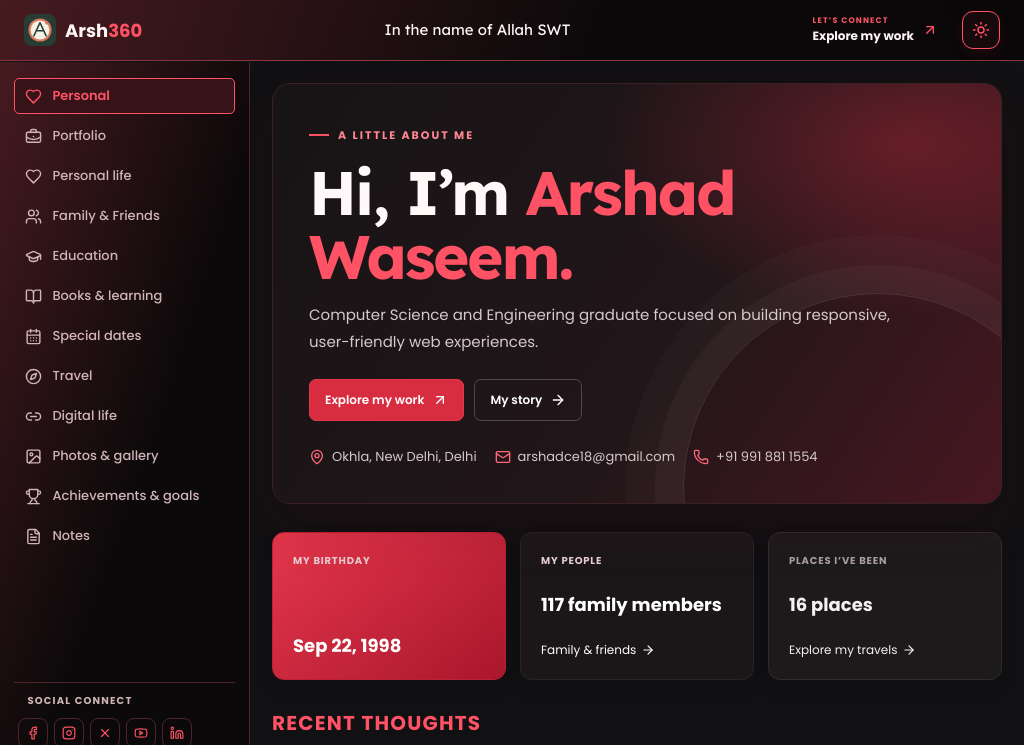
Scenario: travel entries use image-first two-column mobile card layout
Click the link "Travel": (59,376) [25,366,92,385]
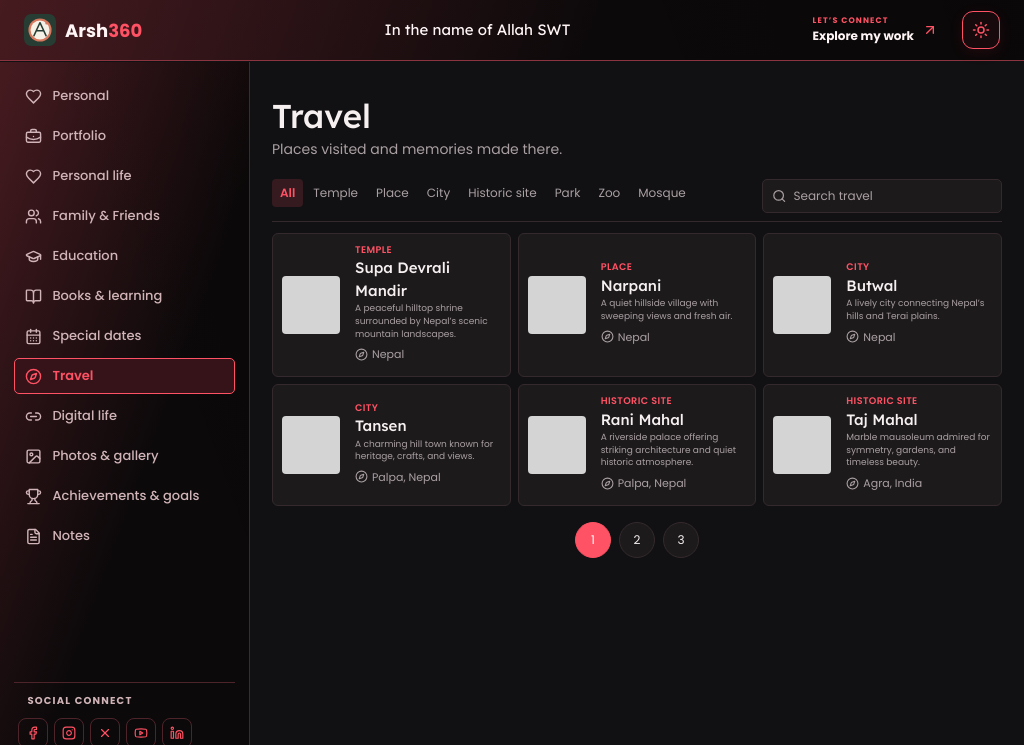
Check: the heading "Lotus Temple" is not shown
Check: the element with class "travel-list" is shown, box [272,233,1002,506]
Check: the button named "Travel page 3" is shown, box [663,522,699,558]
Click the button named "Travel page 2": (637,540) [619,522,655,558]
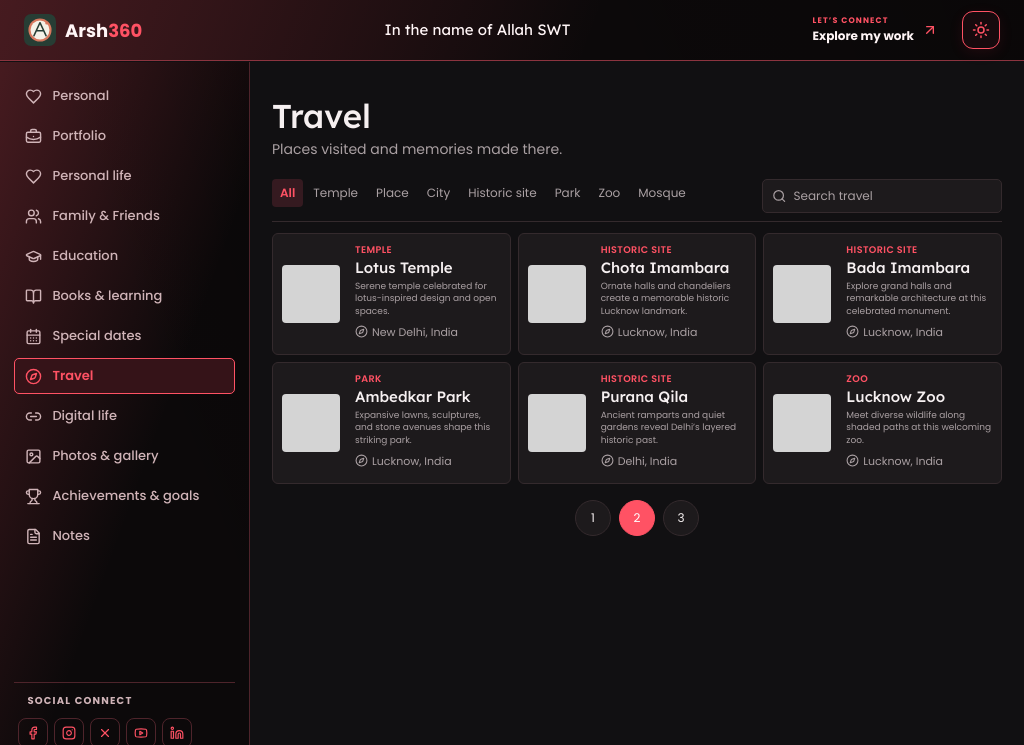
Check: the heading "Lotus Temple" is shown, box [355,258,453,277]
Click the button named "Travel page 3": (681,518) [663,500,699,536]
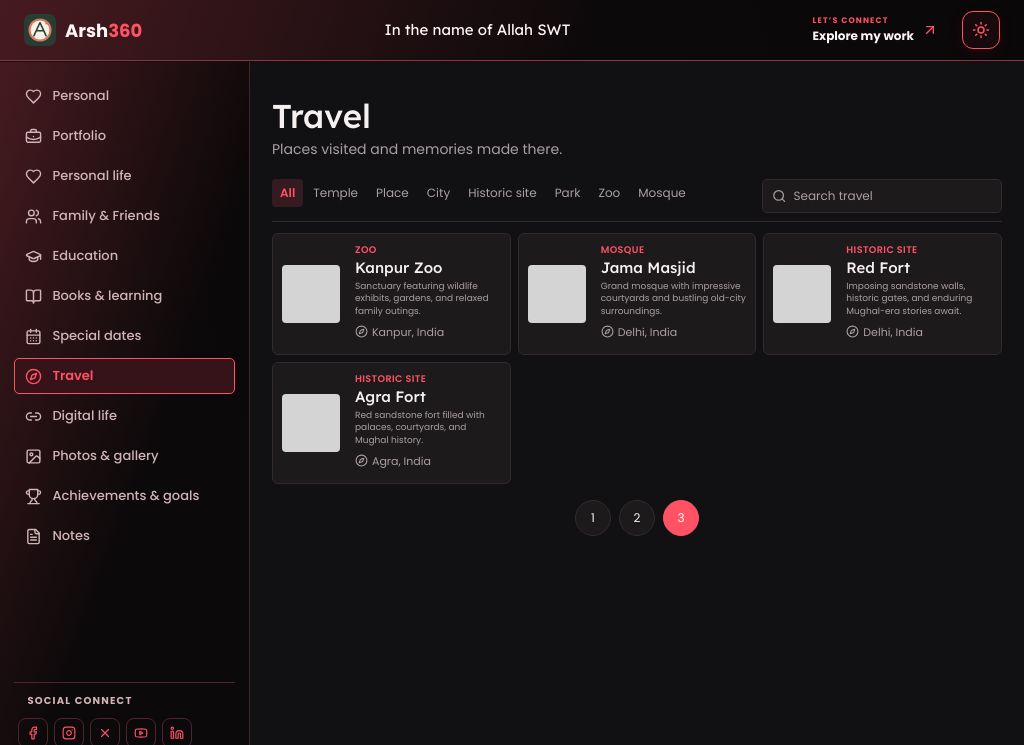
Check: the button named "Travel page 3" is marked as current, box [663,500,699,536]
